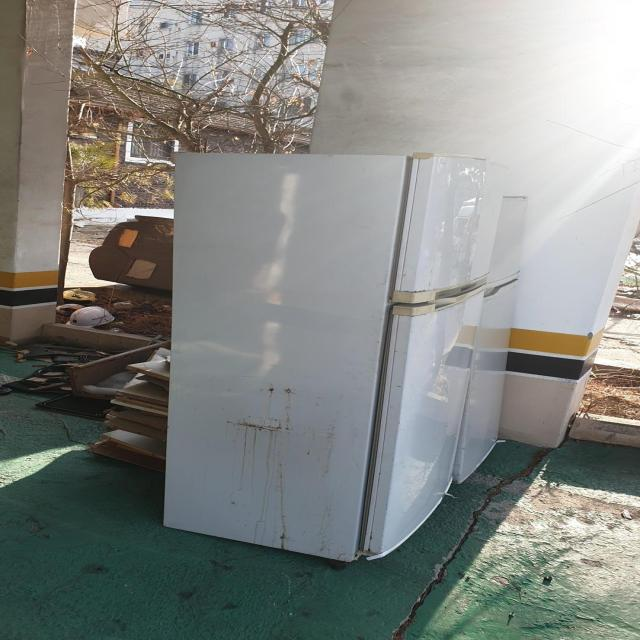refrigerator: (162, 153, 530, 562)
